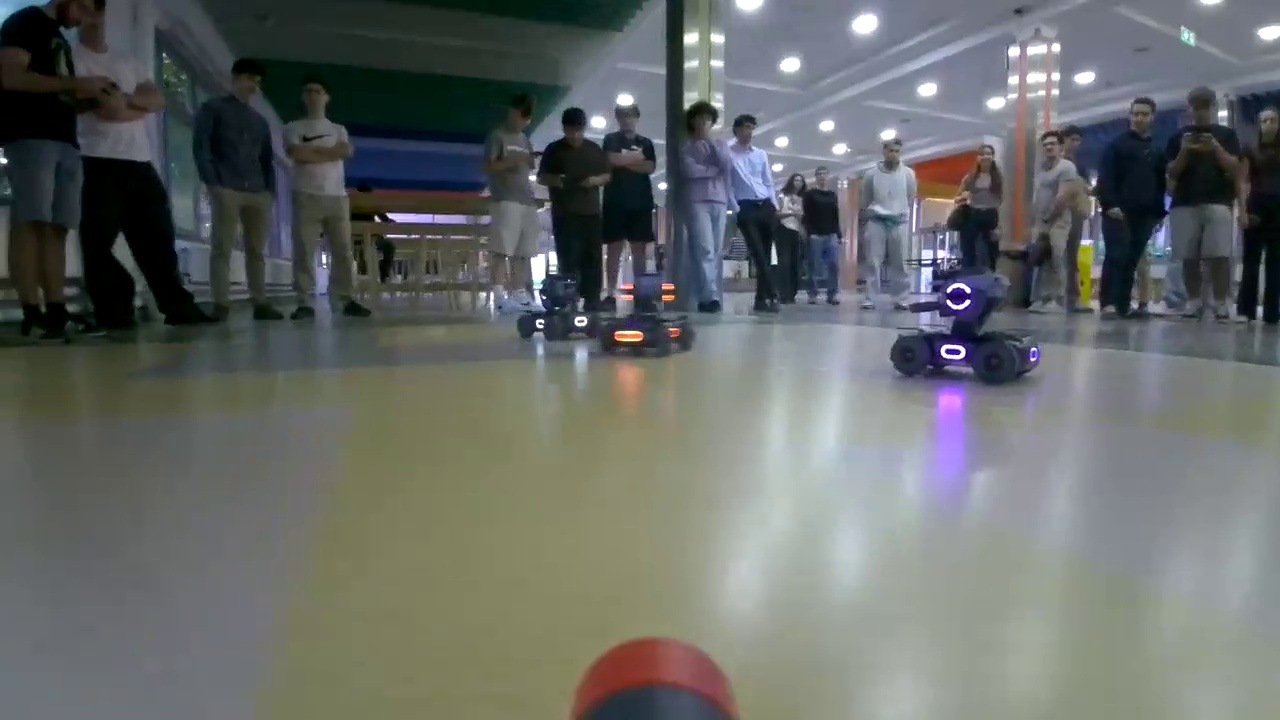robot: (888, 276, 1042, 388), (608, 276, 688, 348), (522, 280, 600, 340)
